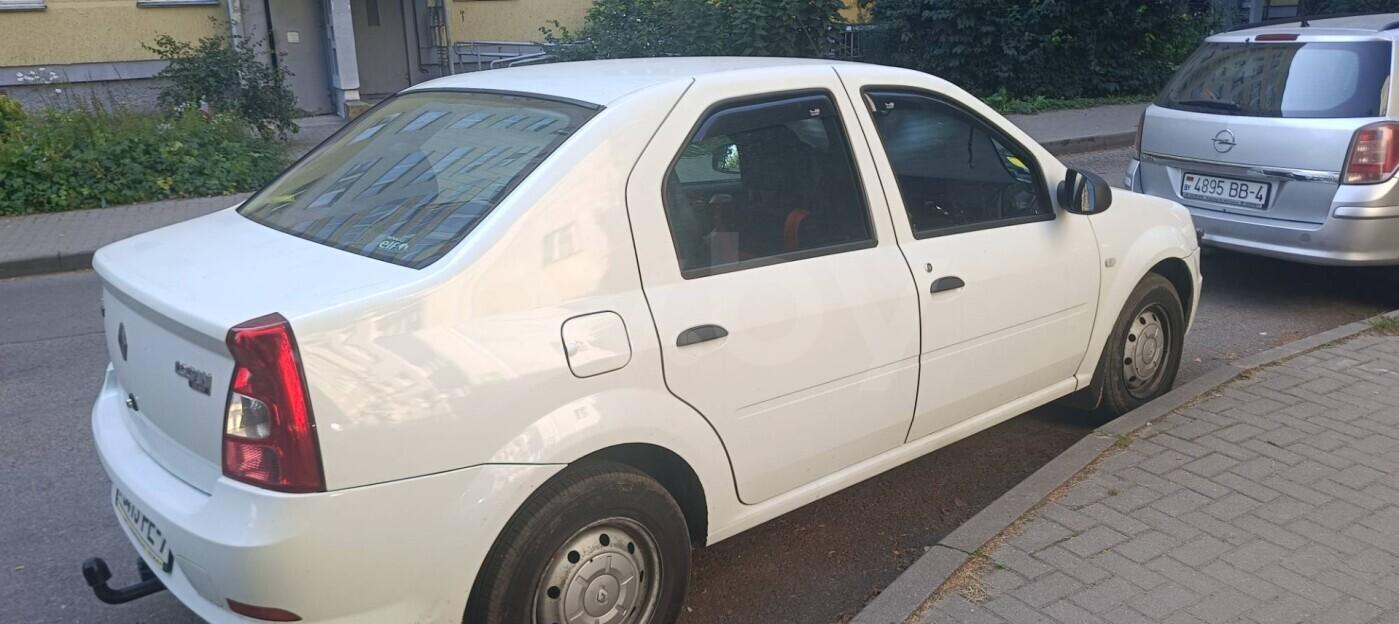Logan_2008-2015: (81, 51, 1218, 624)
